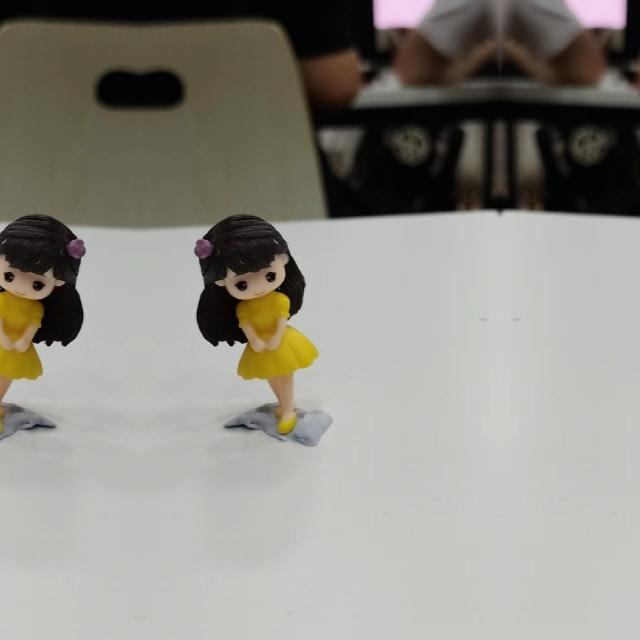woman head: (194, 212, 292, 300), (0, 211, 86, 300)
